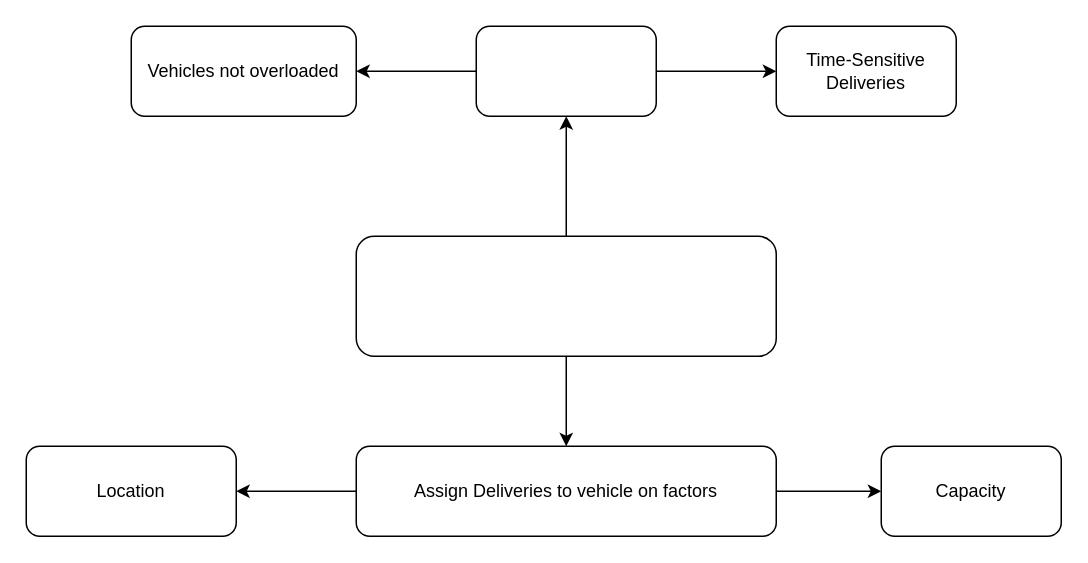
This 1088x563 diagram has some shape labels left out. The shapes that lost their labels are listed below. From the top down, each one's box as (x1, y1, x2, y2) in pixels, then its label:
(475, 25, 656, 116): Prioritse
(355, 235, 776, 356): Delivery Scheduling Vehicle Management
